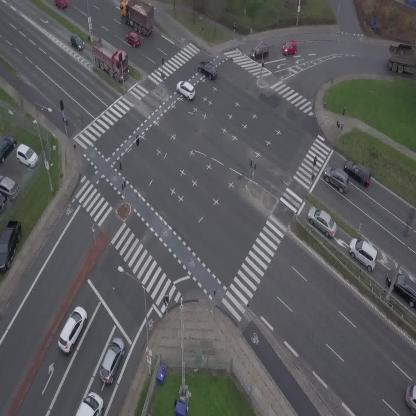car: (53, 303, 91, 354), (95, 335, 129, 385), (343, 234, 384, 272), (303, 203, 343, 241), (318, 161, 355, 194), (341, 156, 376, 188), (174, 77, 199, 102), (195, 58, 220, 81), (65, 32, 86, 54), (123, 29, 143, 48), (280, 40, 299, 57), (249, 44, 269, 59), (406, 384, 416, 414), (54, 0, 67, 9)
lorry: (83, 33, 137, 85), (75, 392, 103, 416)
